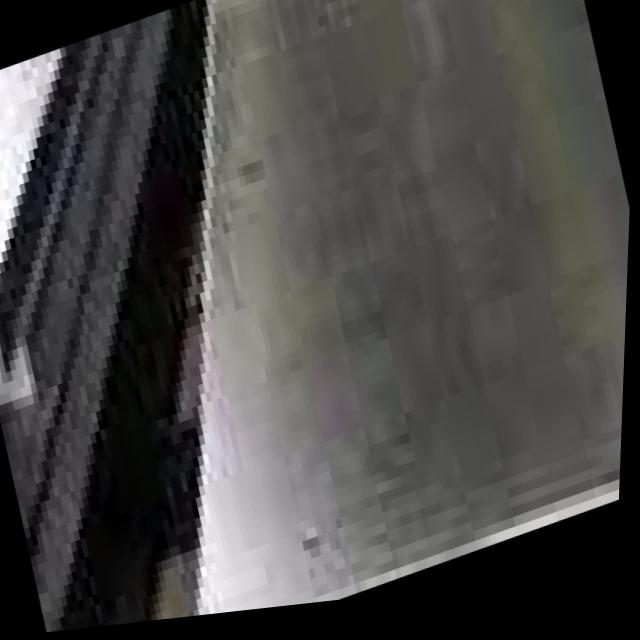metal-plates: (198, 1, 633, 622)
